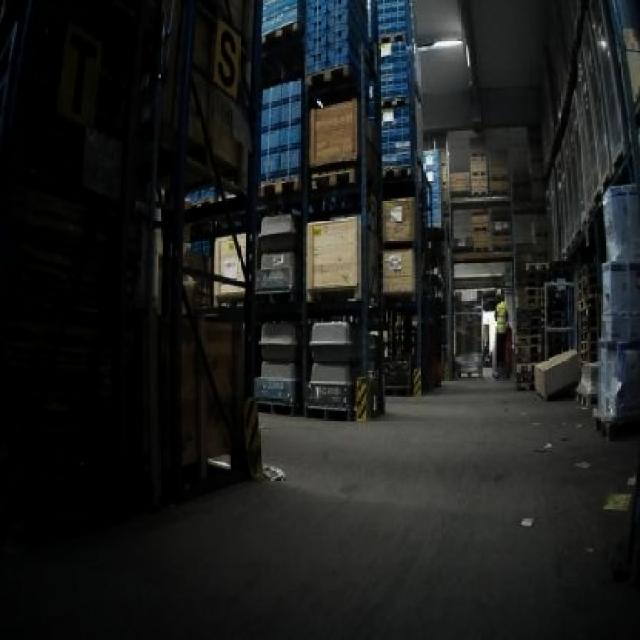floor: (0, 378, 637, 637)
pallets: (305, 214, 357, 288), (532, 348, 577, 395)
